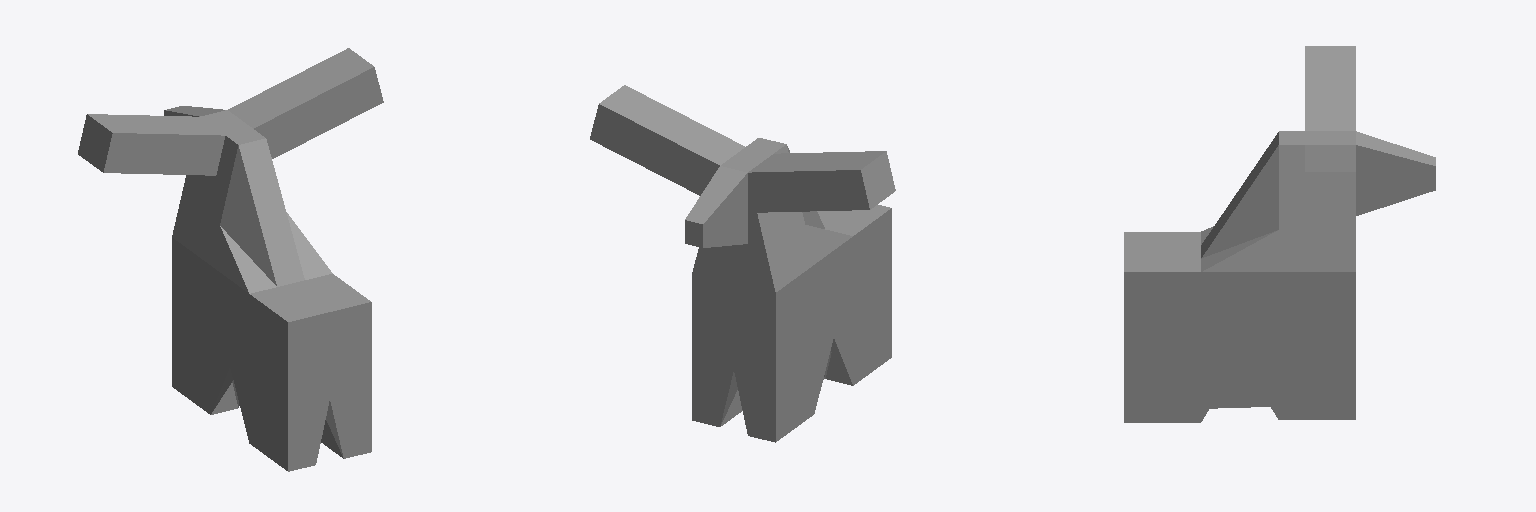
Rendered from moose_model_mk1.obj.
3 views of the same model, side by side, from view 1: azimuth 30°, elevation 25°; view 2: azimuth 150°, elevation 25°; view 3: azimuth 270°, elevation 25° (orthographic).
Parts seen in each view (by area): view 1: Cube; view 2: Cube; view 3: Cube.
Part boxes in pixels (left/top/right/bottom): Cube: left=78, top=48, right=383, bottom=471; Cube: left=590, top=85, right=895, bottom=442; Cube: left=1124, top=46, right=1435, bottom=422.
Bounding box in the file's own units: 6.73 × 6.8 × 6.49.